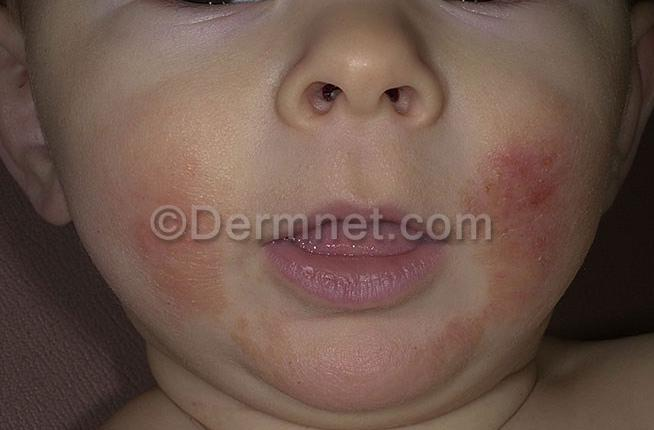Eritema 2: (485, 137, 566, 267)
eritema 1: (137, 183, 542, 393)
